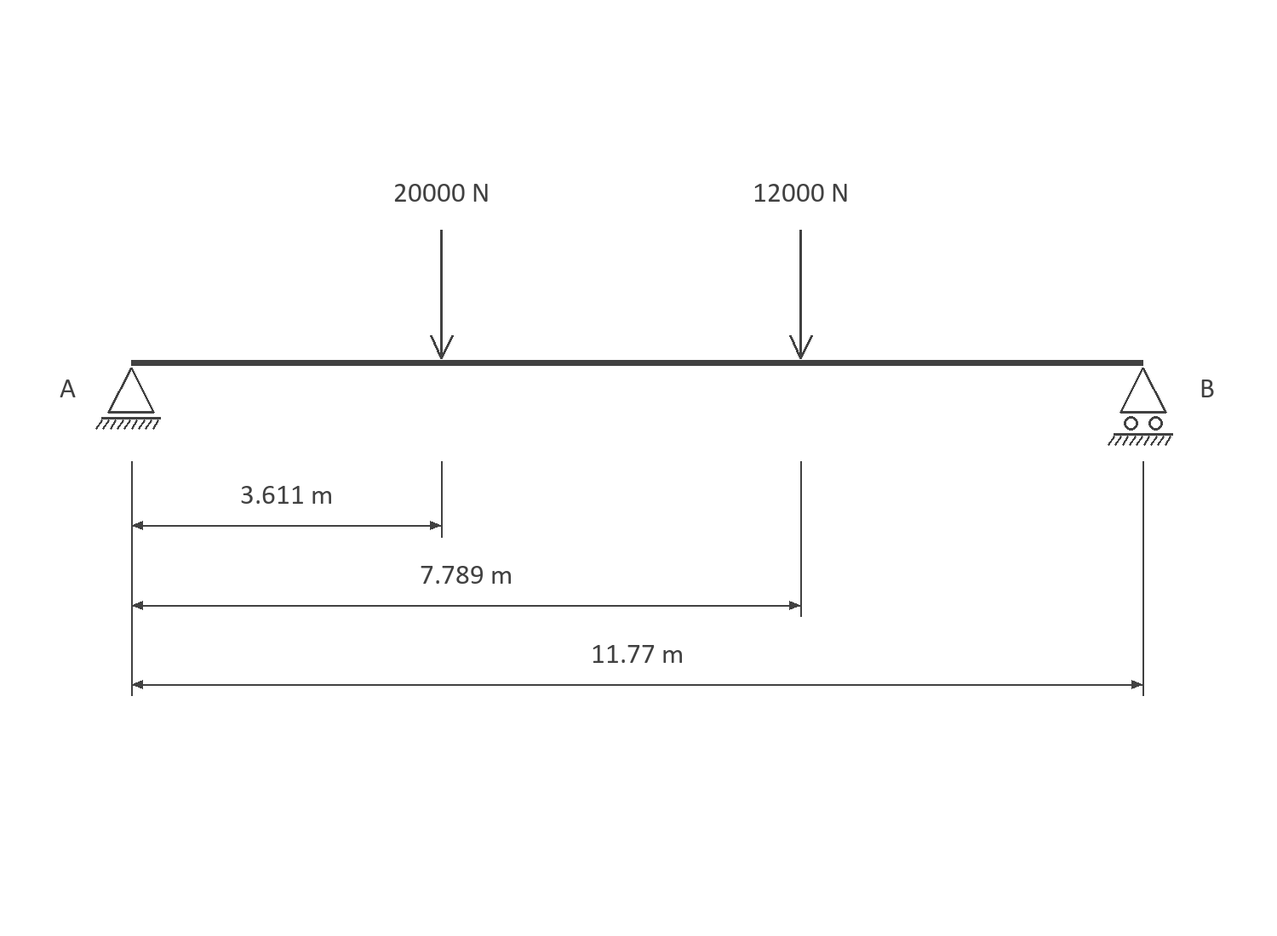pin_support: (95, 368, 161, 430)
point_load: (430, 230, 454, 359), (789, 230, 813, 359)
roller_support: (1108, 368, 1173, 446)
